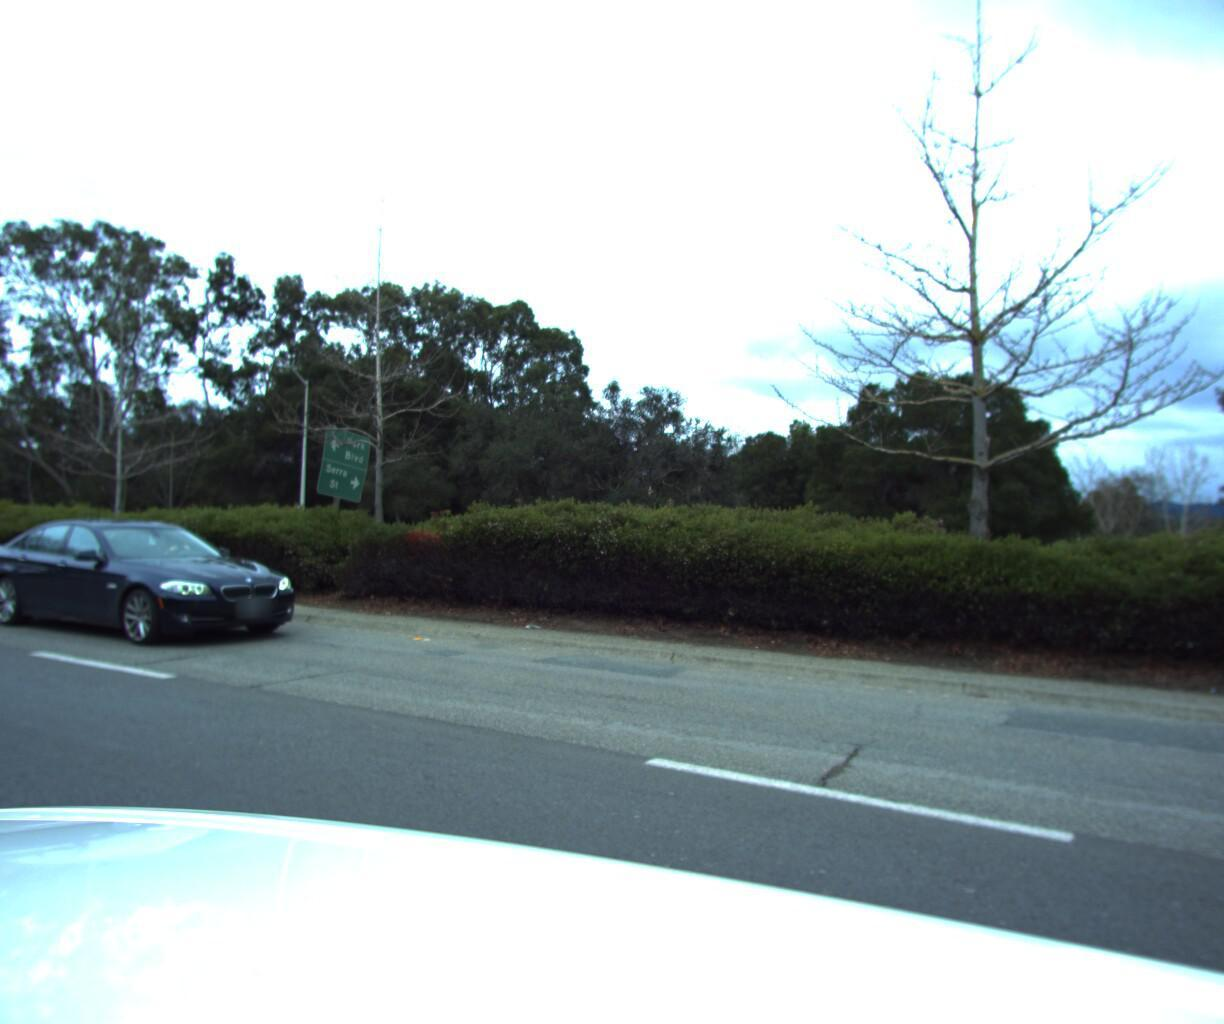car: (0, 510, 311, 657)
